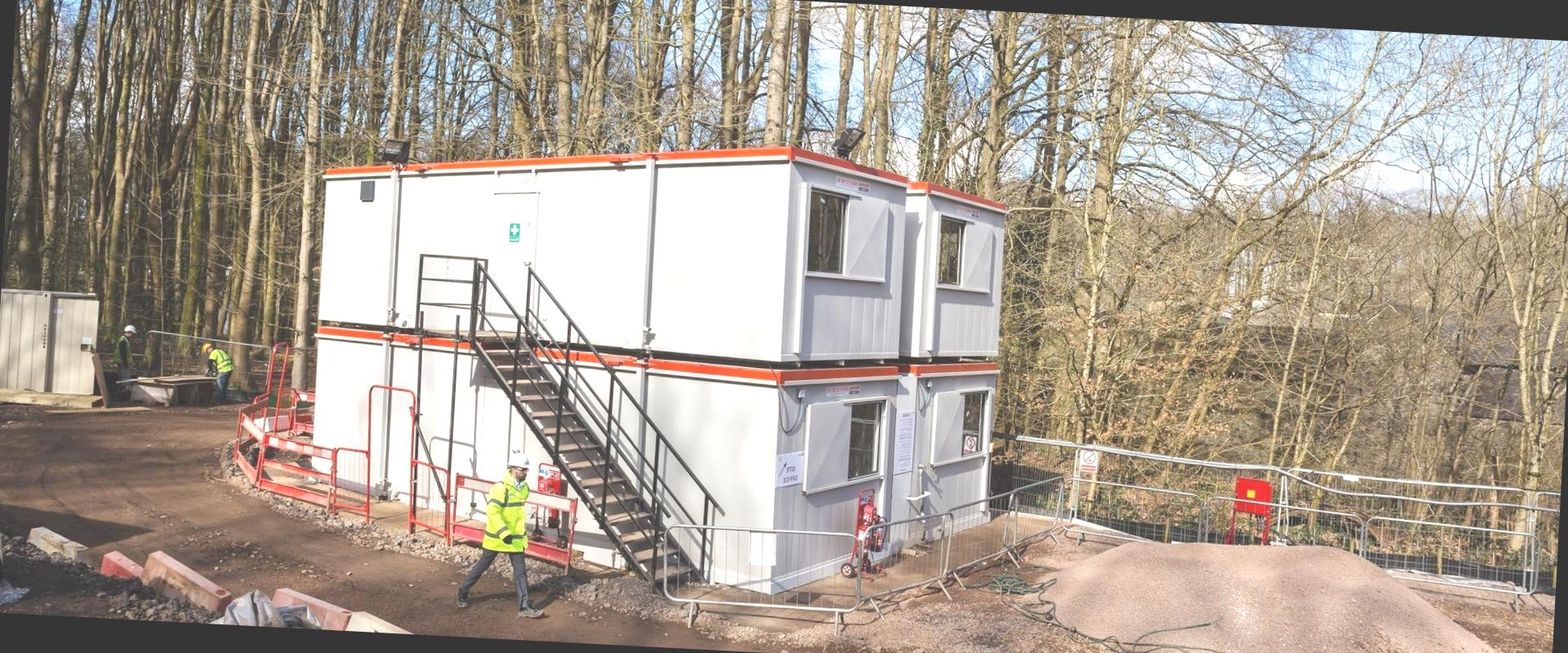helmet: (503, 450, 535, 473), (199, 340, 213, 353)
person: (449, 448, 555, 618), (194, 342, 241, 403)
